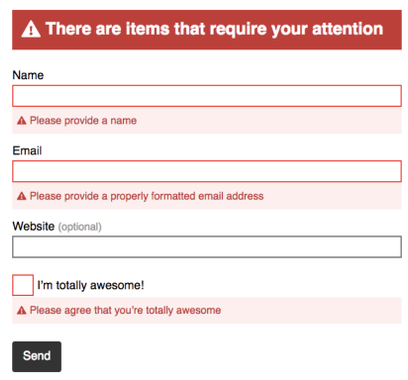error_field: (12, 83, 403, 108), (12, 159, 404, 183), (10, 274, 36, 296)
error_message: (27, 189, 266, 203), (28, 303, 226, 317), (29, 113, 137, 127)
